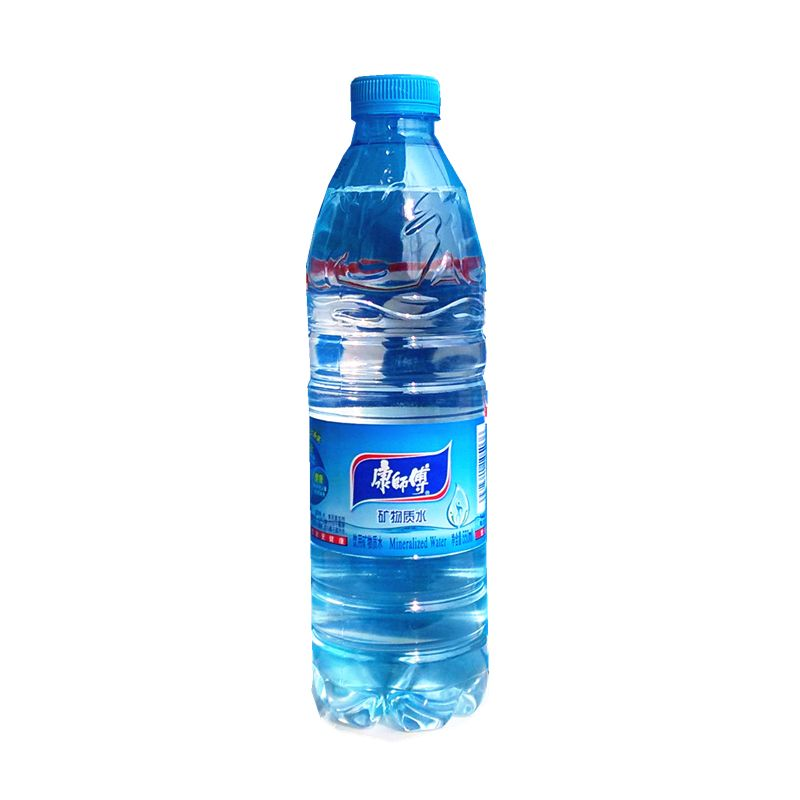amwater: (283, 64, 536, 750)
